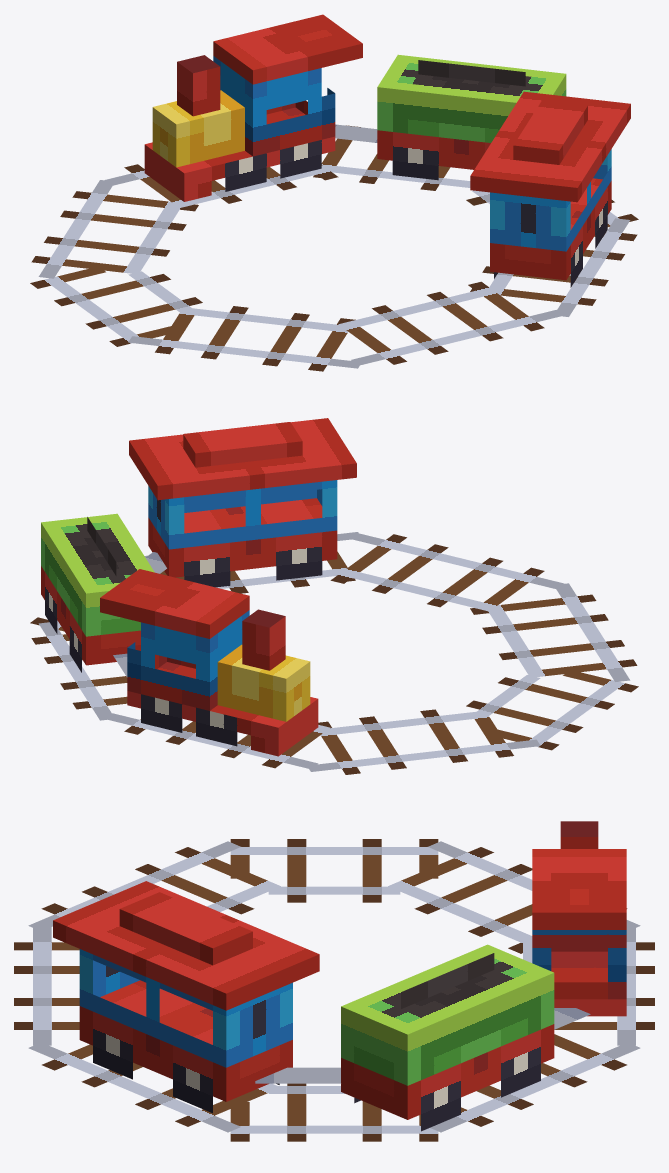
File: train-toy.gltf
The picture shows the model from 3 angles, top to bottom: view 1: azimuth 30°, elevation 25°; view 2: azimuth 150°, elevation 25°; view 3: azimuth 270°, elevation 25°; orthographic projection. The views are drawn at different scales.
Parts seen in each view (by area): view 1: cube (×20); view 2: cube (×18); view 3: cube (×21).
Boxes of the visible parts, box(x1,y1,x2,y2) form: cube (×20): box(30, 14, 637, 371); cube (×18): box(31, 418, 638, 774); cube (×21): box(14, 821, 654, 1141).
Bounding box in the file's own units: 0.9591 × 0.2597 × 0.8553.
Materials: 2 (2 with a texture image).
